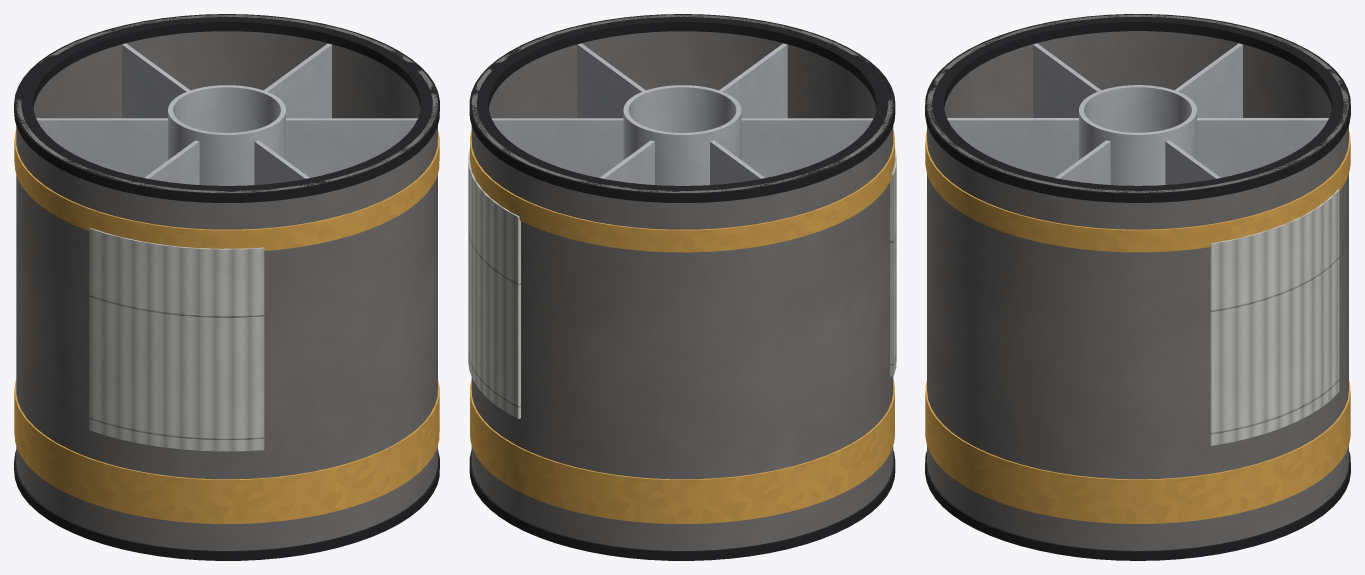
Rendered from cmd10_service_bay_m.glb.
3 renders of one model, left to right at view 1: azimuth 30°, elevation 25°; view 2: azimuth 150°, elevation 25°; view 3: azimuth 270°, elevation 25°, orthographic.
Parts seen in each view (by area): view 1: skin, radiator_panels, mli_bands, stack_rings, sector_bulkheads, central_tube; view 2: skin, mli_bands, stack_rings, sector_bulkheads, radiator_panels, central_tube; view 3: skin, mli_bands, radiator_panels, stack_rings, sector_bulkheads, central_tube.
Part boxes in pixels (<box>): skin: <box>16,15,437,550</box>; radiator_panels: <box>89,228,264,451</box>; mli_bands: <box>14,130,439,523</box>; stack_rings: <box>14,14,439,560</box>; sector_bulkheads: <box>36,43,417,184</box>; central_tube: <box>168,85,285,185</box>; skin: <box>471,15,893,550</box>; mli_bands: <box>470,130,894,523</box>; stack_rings: <box>469,14,895,560</box>; sector_bulkheads: <box>491,43,873,184</box>; radiator_panels: <box>468,148,896,418</box>; central_tube: <box>623,85,741,185</box>; skin: <box>927,14,1348,550</box>; mli_bands: <box>925,131,1350,523</box>; radiator_panels: <box>1210,189,1339,445</box>; stack_rings: <box>925,14,1350,560</box>; sector_bulkheads: <box>947,43,1328,184</box>; central_tube: <box>1079,85,1196,185</box>.
Bounding box in the file's own units: 2.52 × 2.4 × 2.52.
Materials: 6 (4 with a texture image).
